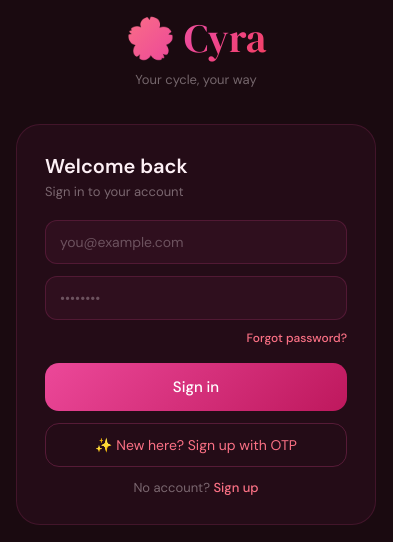
it: shows forgot password screen on click
Click the text "Forgot password?" at (297, 338), box [247,330,347,346]
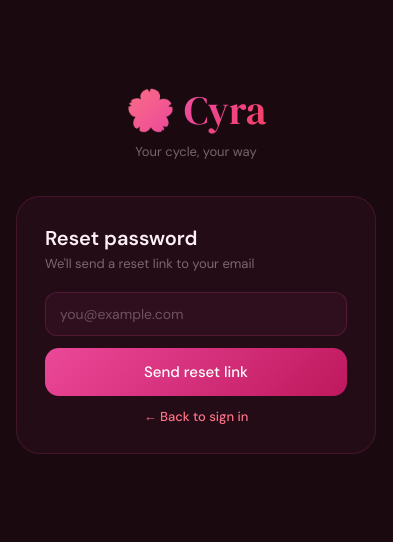
Expected: the text "Reset password" is shown, [45,224,198,250]
